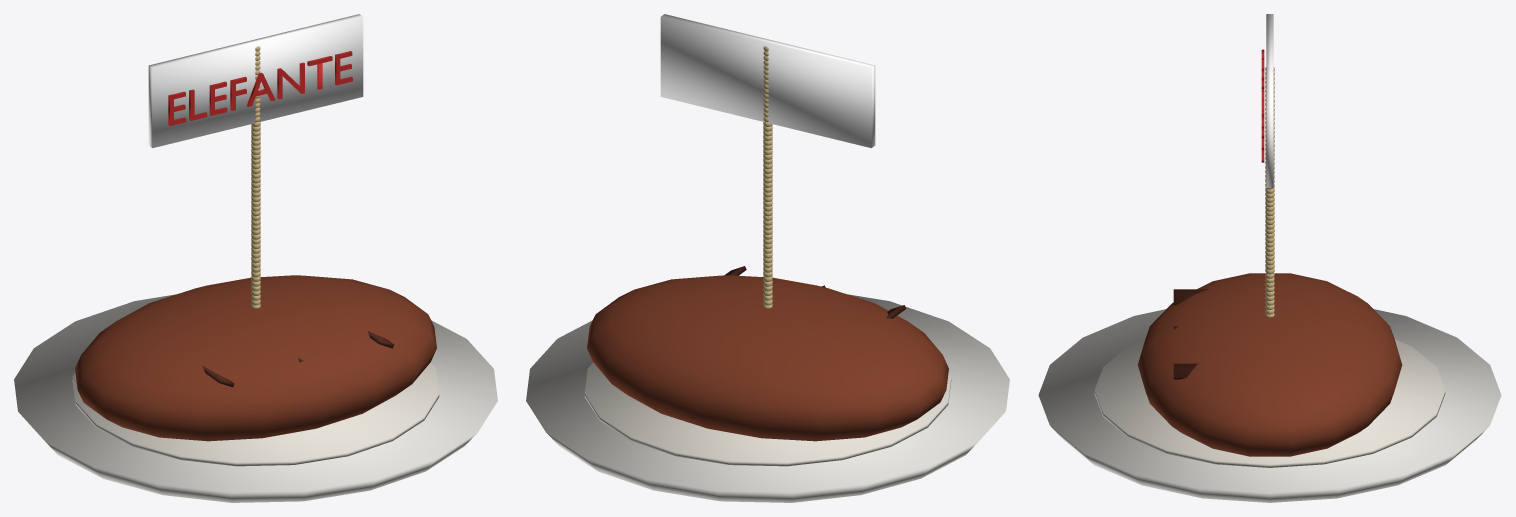
Rendered from bife_elefante.glb.
The picture shows the model from 3 angles, left to right: view 1: azimuth 30°, elevation 25°; view 2: azimuth 150°, elevation 25°; view 3: azimuth 270°, elevation 25°; orthographic projection. The views are drawn at different scales.
Visible parts, largest first — view 1: bife_elefante; view 2: bife_elefante; view 3: bife_elefante.
Part boxes in pixels (<box>): bife_elefante: <box>14,14,497,502</box>; bife_elefante: <box>526,14,1009,502</box>; bife_elefante: <box>1038,14,1501,502</box>.
Size of the model in its own units: 1.32 by 1.11 by 1.32.
